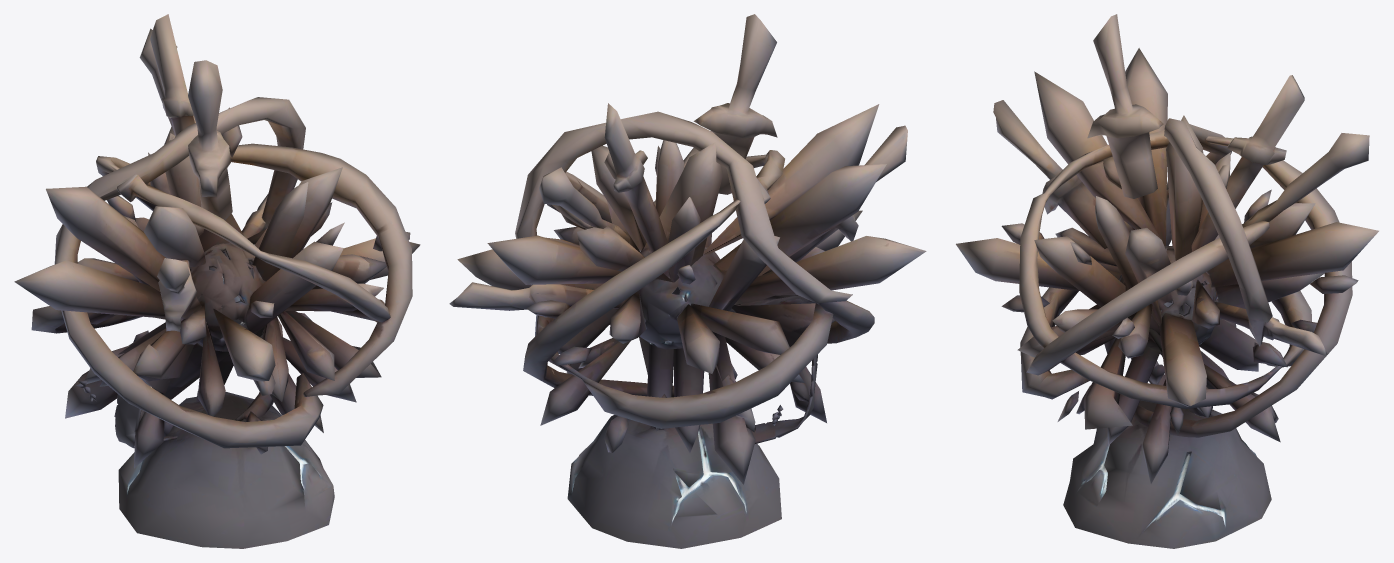
Rendered from metal_restrain_t3.glb.
The picture shows the model from 3 angles, left to right: view 1: azimuth 30°, elevation 25°; view 2: azimuth 150°, elevation 25°; view 3: azimuth 270°, elevation 25°; orthographic projection. The views are drawn at different scales.
Visible parts, largest first — view 1: tripo_node_bb952cdb-c863-4cf2-a644-68bd0398daf0; view 2: tripo_node_bb952cdb-c863-4cf2-a644-68bd0398daf0; view 3: tripo_node_bb952cdb-c863-4cf2-a644-68bd0398daf0.
Boxes of the visible parts, <box> form: tripo_node_bb952cdb-c863-4cf2-a644-68bd0398daf0: <box>14,14,420,548</box>; tripo_node_bb952cdb-c863-4cf2-a644-68bd0398daf0: <box>449,14,926,548</box>; tripo_node_bb952cdb-c863-4cf2-a644-68bd0398daf0: <box>956,14,1378,548</box>.
Bounding box in the file's own units: 0.959 × 0.998 × 0.8301.
1 material, 1 textured.
